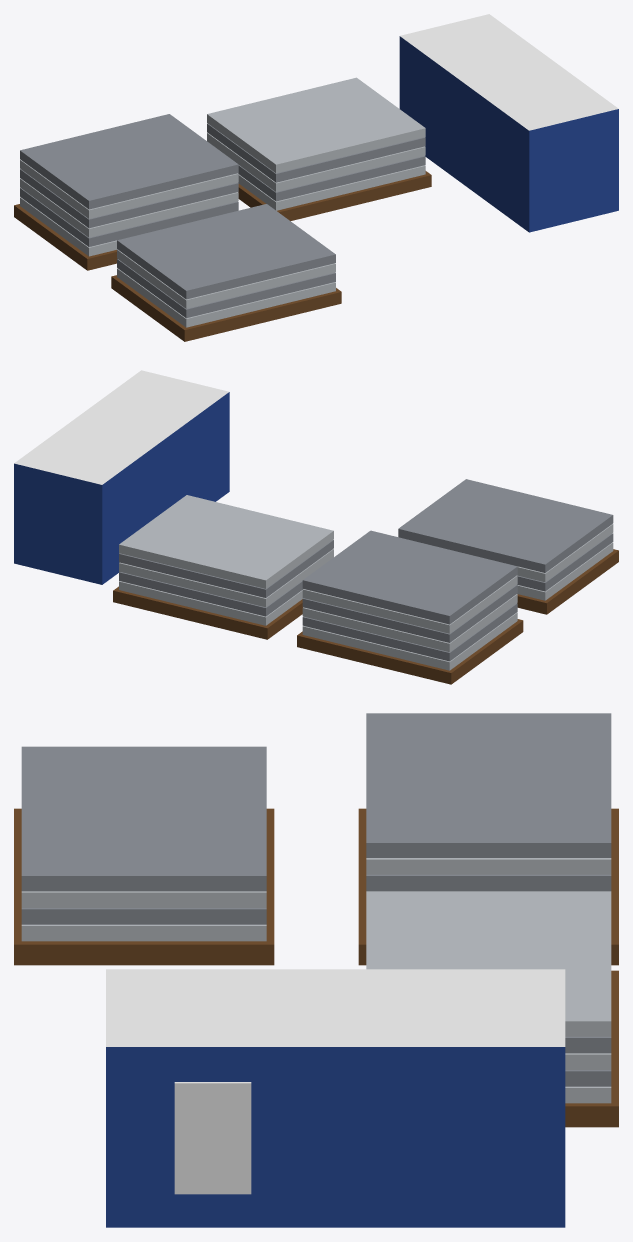
The model's file is elt_paneles.obj.
3 views of the same model, one above another, from view 1: azimuth 30°, elevation 25°; view 2: azimuth 150°, elevation 25°; view 3: azimuth 270°, elevation 25° (orthographic). The views are drawn at different scales.
Visible parts, largest first — view 1: elt_paneles; view 2: elt_paneles; view 3: elt_paneles.
Boxes of the visible parts, x1,y1,x2,y2 form: elt_paneles: (14,14,618,341); elt_paneles: (14,370,618,684); elt_paneles: (14,713,618,1227).
Size of the model in its own units: 12.34 by 2.6 by 7.9.
